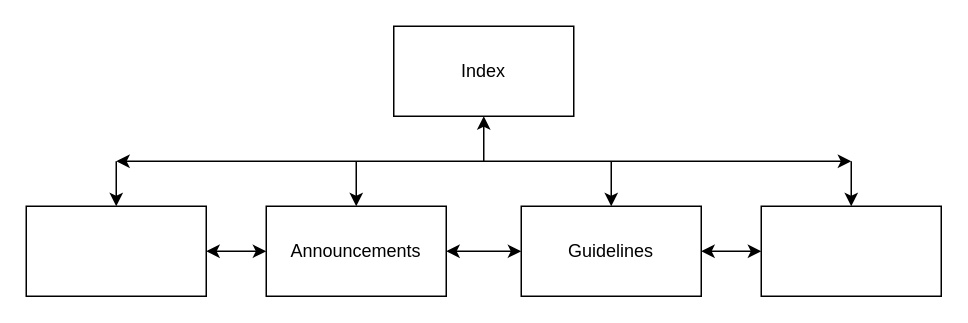
Some shapes in this 968 by 323 pixel diagram are drawn without their labels. Each missing label, with the centre of its shape:
About Volleyball: the point at 115,250
Sign Up: the point at 850,250
